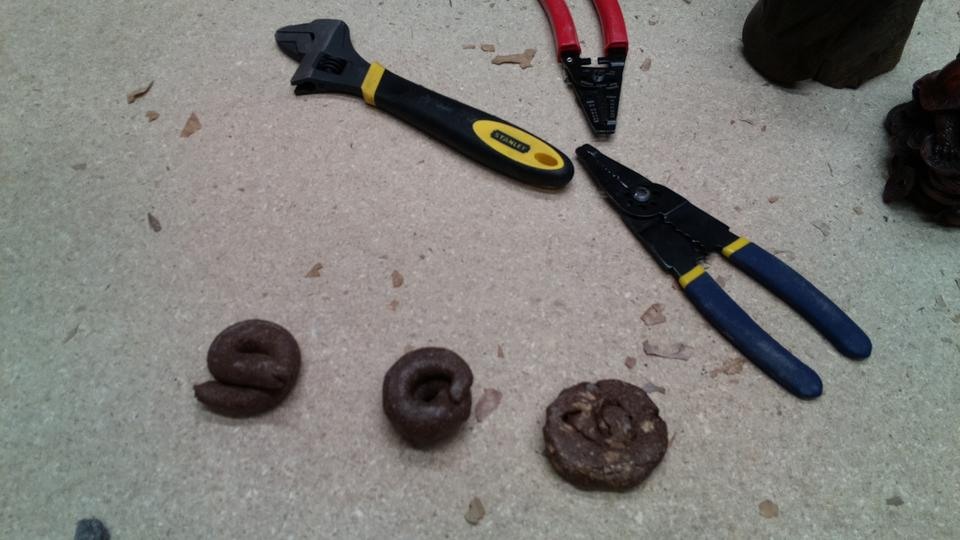poop: (540, 375, 674, 498), (191, 315, 307, 422), (379, 342, 478, 450)
